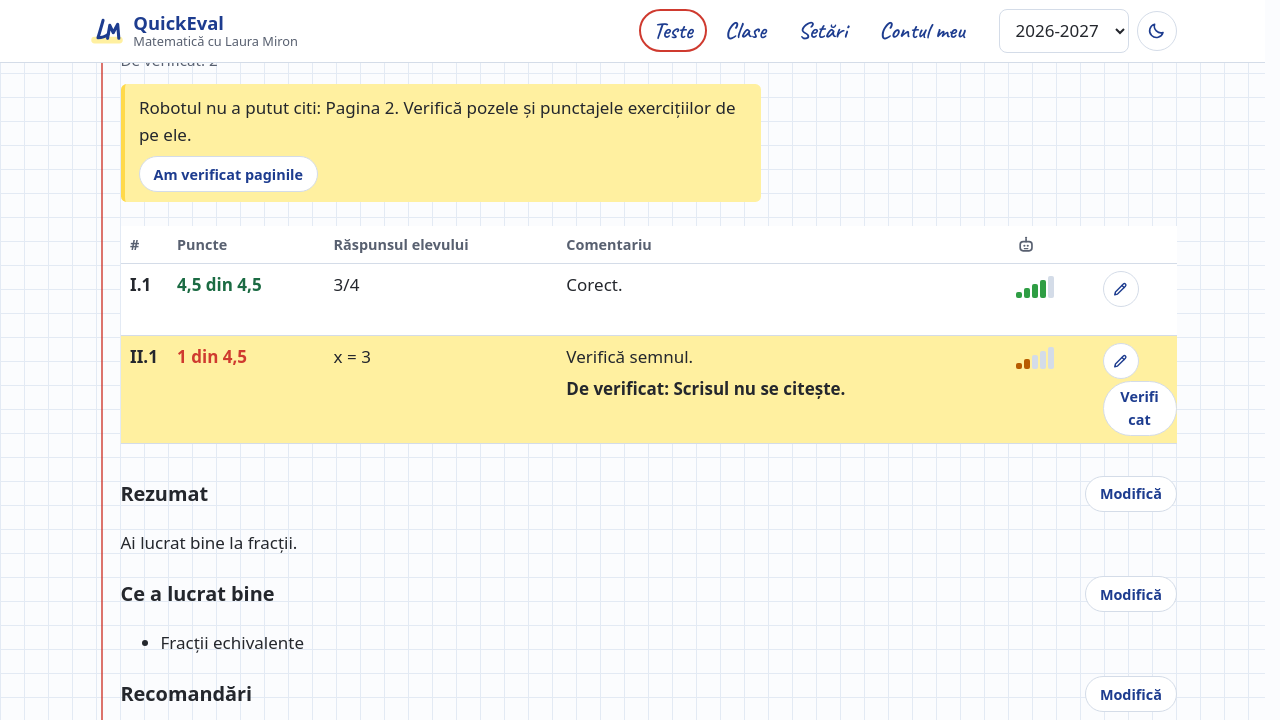
Scenario: SubmissionPage › scopes the bottom-aligned check layout to the check cell
(page scrolled)
While editing, the same cell holds Salvează and Renunță side by side.
Click the button named "Modifică Subiectul II, ex. 1": [1121, 361] box 1103,343 -> 1139,379
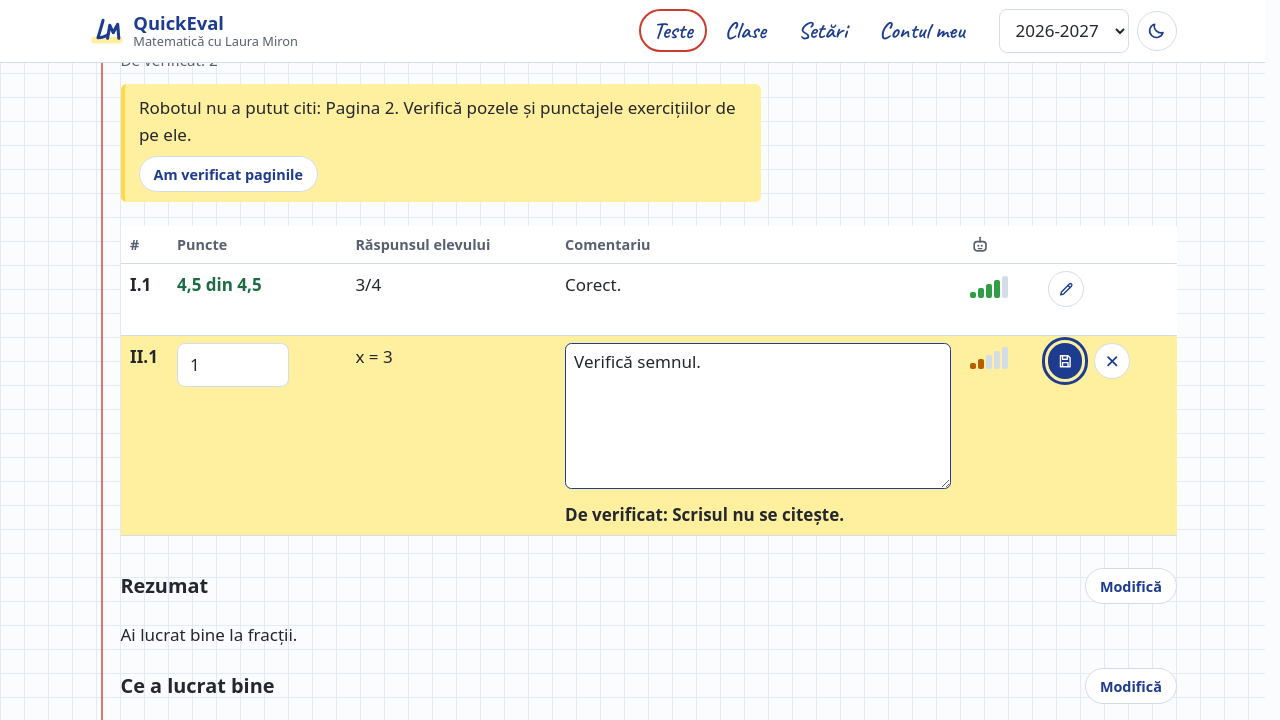
Check: the button named "Salvează" is shown, box 1048,343 -> 1082,379
